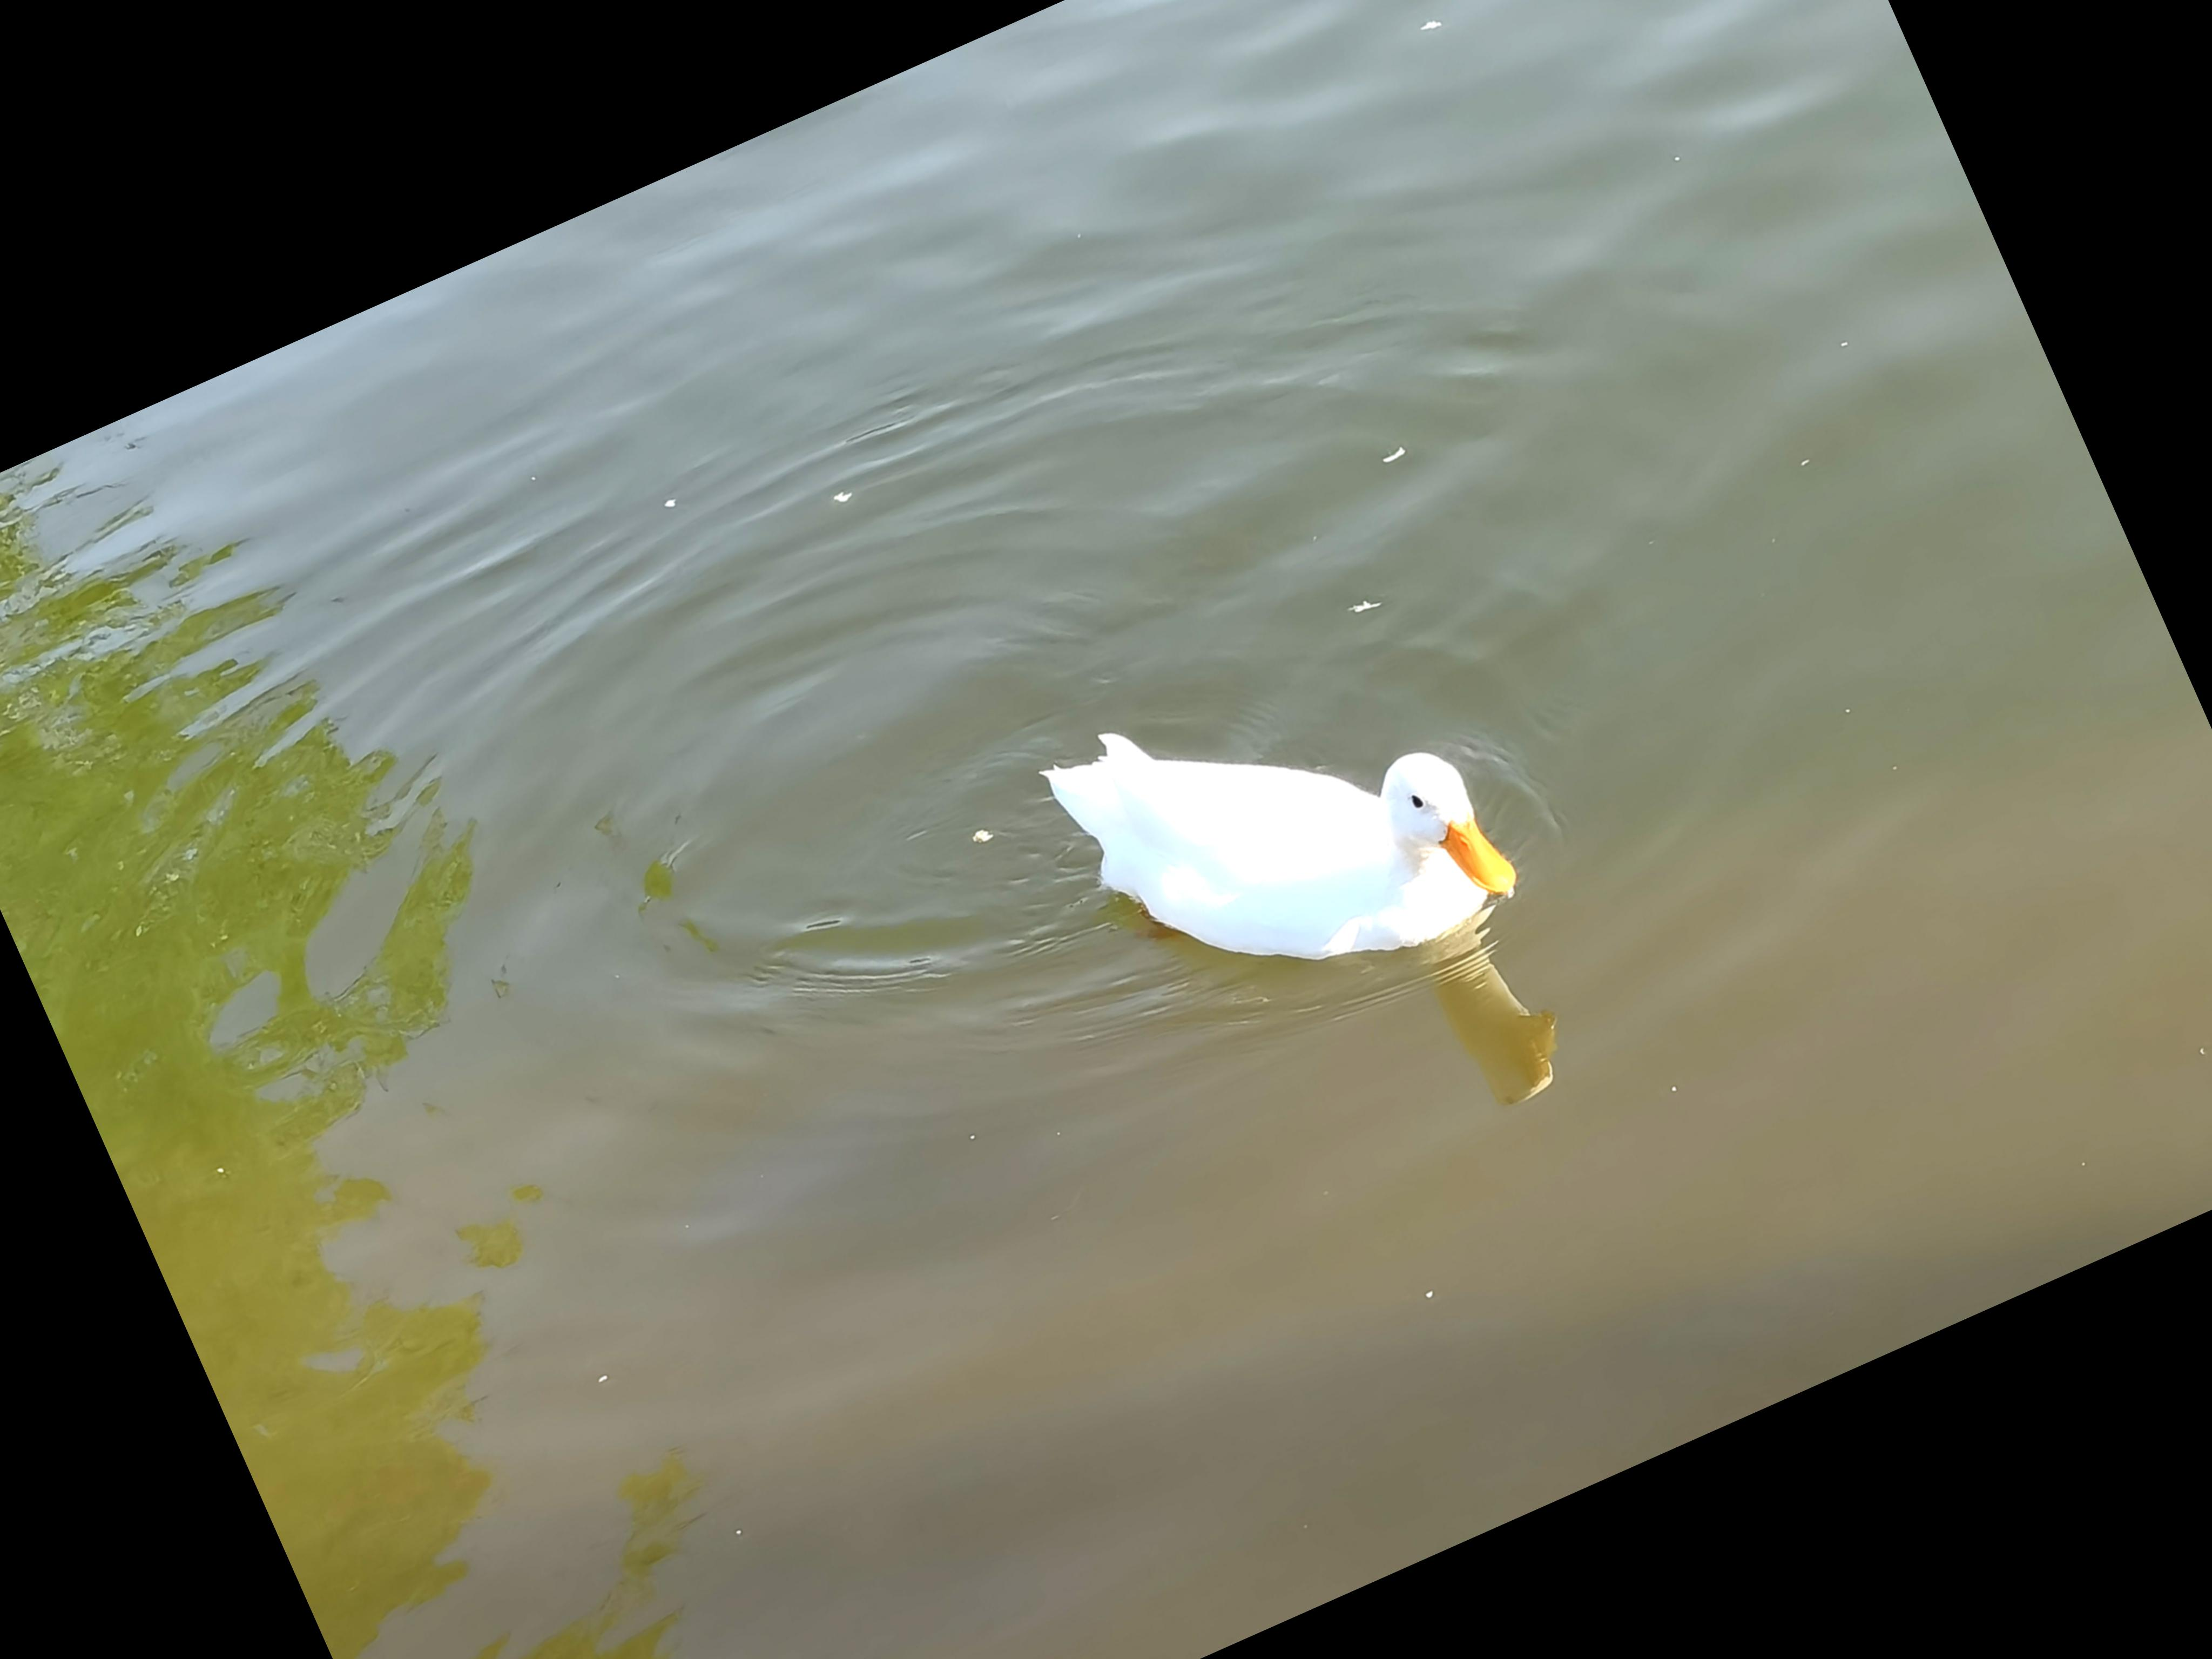duck: (1001, 572, 1580, 1110)
